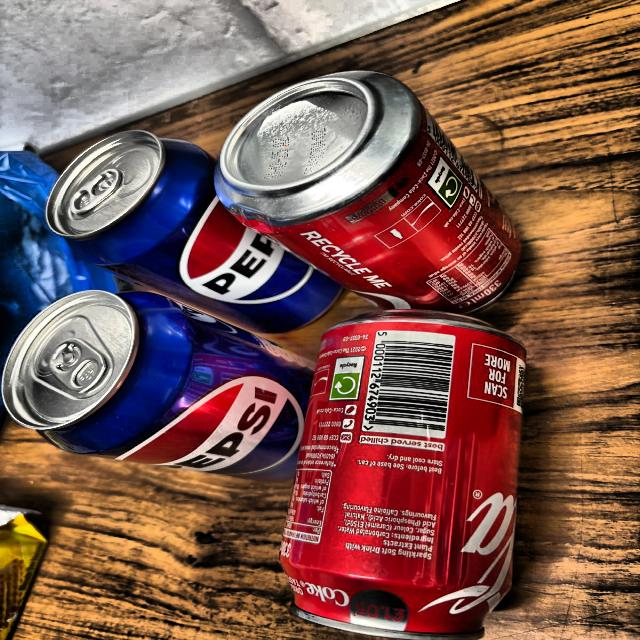coke-can: (229, 64, 531, 314), (285, 318, 520, 634)
pepsi-can: (2, 292, 314, 498), (43, 128, 328, 324)
